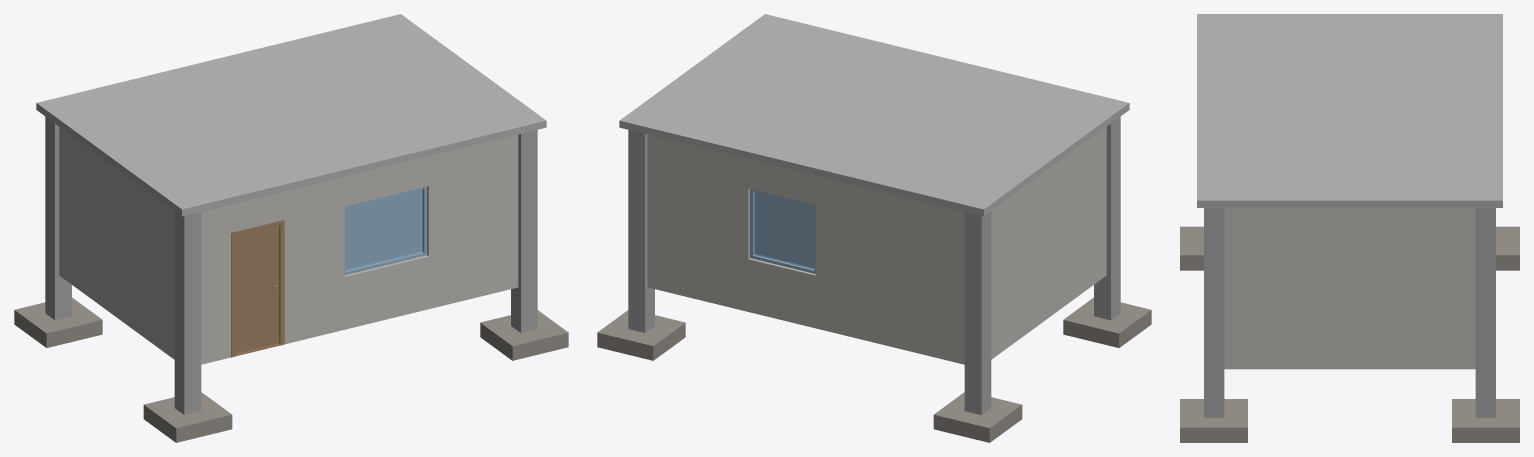
File: modulo_oficina.glb
3 renders of one model, left to right at view 1: azimuth 30°, elevation 25°; view 2: azimuth 150°, elevation 25°; view 3: azimuth 270°, elevation 25°, orthographic. The views are drawn at different scales.
Visible parts, largest first — view 1: IfcSlab|Losa de azotea e=12 cm, IfcWall|M-1 sur, IfcWall|M-4 poniente, IfcDoor|P-1 acceso 0.90x2.10, IfcWindow|V-1 1.50x1.20, IfcColumn|K-1 30x30, IfcColumn|K-2 30x30, IfcColumn|K-4 30x30, IfcFooting|ZA-1, IfcFooting|ZA-2, IfcFooting|ZA-4; view 2: IfcSlab|Losa de azotea e=12 cm, IfcWall|M-3 norte, IfcWall|M-4 poniente, IfcColumn|K-4 30x30, IfcWindow|V-2 1.20x1.20, IfcColumn|K-3 30x30, IfcColumn|K-1 30x30, IfcFooting|ZA-4, IfcFooting|ZA-3, IfcFooting|ZA-1; view 3: IfcSlab|Losa de azotea e=12 cm, IfcWall|M-2 oriente, IfcColumn|K-3 30x30, IfcColumn|K-2 30x30, IfcFooting|ZA-3, IfcFooting|ZA-2, IfcFooting|ZA-4, IfcFooting|ZA-1.
Part boxes in pixels (x1,y1,x2,y2): IfcSlab|Losa de azotea e=12 cm: (36,14,546,216); IfcWall|M-1 sur: (201,134,518,364); IfcWall|M-4 poniente: (59,127,174,359); IfcDoor|P-1 acceso 0.90x2.10: (231,220,284,357); IfcWindow|V-1 1.50x1.20: (344,186,426,275); IfcColumn|K-1 30x30: (174,211,201,415); IfcColumn|K-2 30x30: (511,130,537,332); IfcColumn|K-4 30x30: (45,116,71,320); IfcFooting|ZA-1: (143,392,232,442); IfcFooting|ZA-2: (480,310,568,360); IfcFooting|ZA-4: (14,297,102,347); IfcSlab|Losa de azotea e=12 cm: (619,14,1129,216); IfcWall|M-3 norte: (647,134,964,364); IfcWall|M-4 poniente: (991,127,1106,359); IfcColumn|K-4 30x30: (964,211,991,415); IfcWindow|V-2 1.20x1.20: (750,189,815,273); IfcColumn|K-3 30x30: (628,130,654,332); IfcColumn|K-1 30x30: (1094,116,1120,320); IfcFooting|ZA-4: (933,392,1022,442); IfcFooting|ZA-3: (597,310,685,360); IfcFooting|ZA-1: (1063,297,1151,347); IfcSlab|Losa de azotea e=12 cm: (1197,14,1502,207); IfcWall|M-2 oriente: (1224,208,1475,369); IfcColumn|K-3 30x30: (1475,208,1495,417); IfcColumn|K-2 30x30: (1204,208,1224,417); IfcFooting|ZA-3: (1452,399,1519,442); IfcFooting|ZA-2: (1180,399,1247,442); IfcFooting|ZA-4: (1496,226,1519,270); IfcFooting|ZA-1: (1180,226,1203,270).
Size of the model in its own units: 7 by 3.82 by 5.
